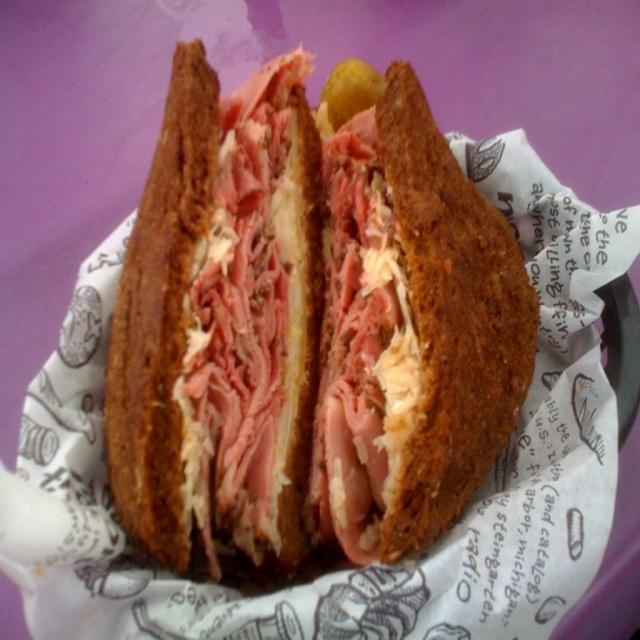Sandwich: (103, 35, 539, 587)
